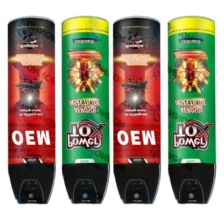aerosol_cans: (164, 14, 217, 208), (57, 14, 110, 206), (4, 14, 56, 208), (111, 13, 162, 207)
